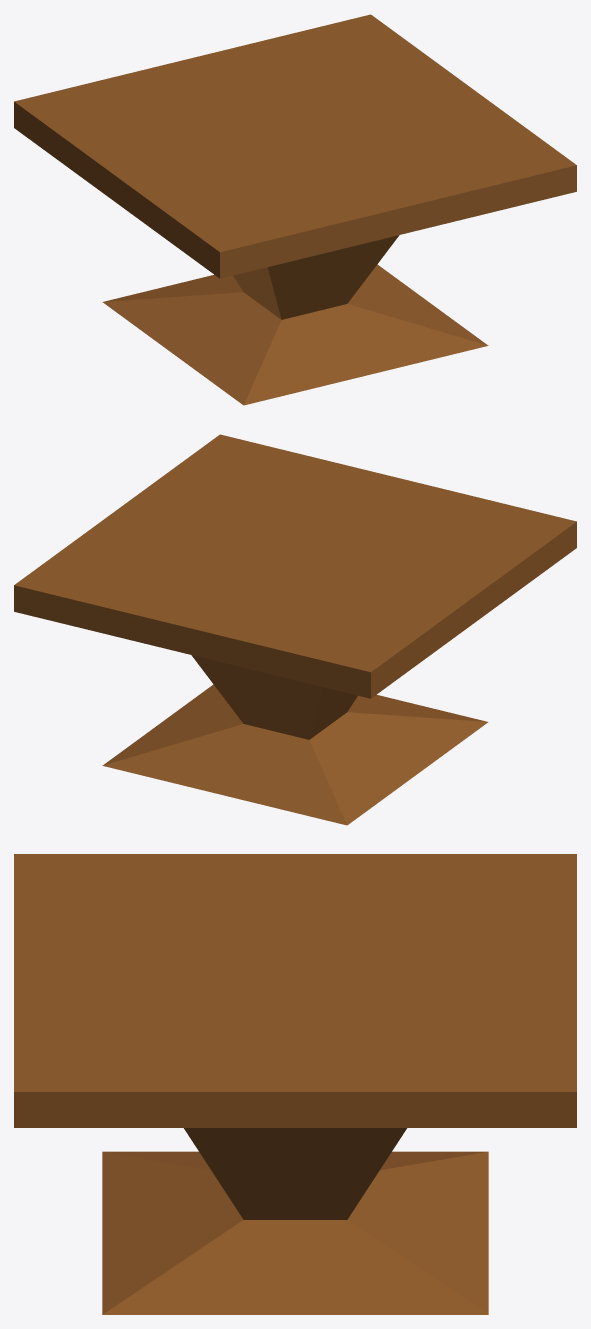
File: Table 1.fbx
3 renders of one model, top to bottom at view 1: azimuth 30°, elevation 25°; view 2: azimuth 150°, elevation 25°; view 3: azimuth 270°, elevation 25°, orthographic. The views are drawn at different scales.
Visible parts, largest first — view 1: Table 1; view 2: Table 1; view 3: Table 1.
Part boxes in pixels (bbox=[...]): Table 1: bbox=[14, 14, 576, 405]; Table 1: bbox=[14, 434, 576, 825]; Table 1: bbox=[14, 854, 576, 1314].
Size of the model in its own units: 48.82 by 24.9 by 48.82.
